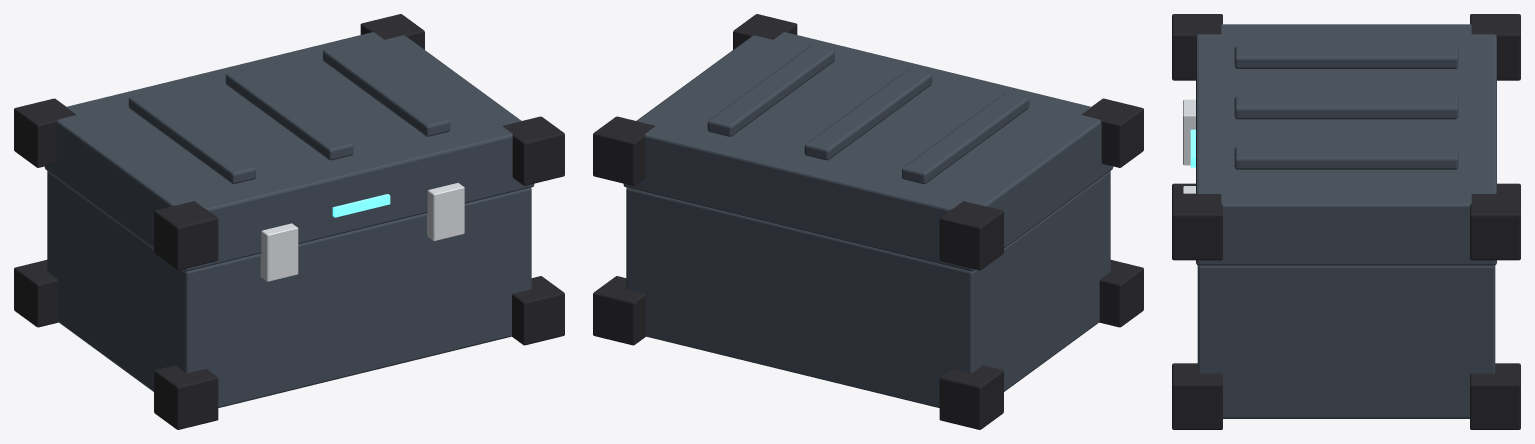
Rendered from cantina_14_cargo_case.glb.
3 views of the same model, side by side, from view 1: azimuth 30°, elevation 25°; view 2: azimuth 150°, elevation 25°; view 3: azimuth 270°, elevation 25° (orthographic). The views are drawn at different scales.
Visible parts, largest first — view 1: Case_Main_Chassis, Case_Corner_Bumpers, Case_Locking_Latches, Case_Cyan_LED_Strip; view 2: Case_Main_Chassis, Case_Corner_Bumpers; view 3: Case_Main_Chassis, Case_Corner_Bumpers, Case_Locking_Latches.
Part boxes in pixels (x1,y1,x2,y2): Case_Main_Chassis: [44, 32, 534, 407]; Case_Corner_Bumpers: [14, 14, 564, 429]; Case_Locking_Latches: [260, 183, 464, 281]; Case_Cyan_LED_Strip: [332, 194, 390, 217]; Case_Main_Chassis: [623, 32, 1113, 407]; Case_Corner_Bumpers: [593, 14, 1143, 429]; Case_Main_Chassis: [1196, 24, 1496, 418]; Case_Corner_Bumpers: [1172, 14, 1520, 429]; Case_Locking_Latches: [1183, 99, 1195, 193].
Bounding box in the file's own units: 0.56 × 0.296 × 0.41.
